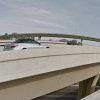Bridge: (8, 26, 100, 87)
